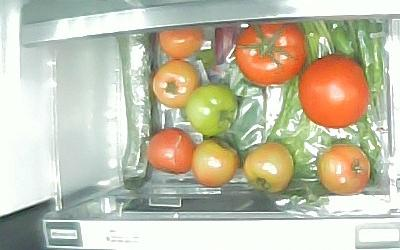tomato: (298, 53, 368, 128), (233, 24, 308, 87), (184, 84, 241, 140), (317, 142, 370, 195), (242, 143, 296, 193), (151, 58, 201, 108), (190, 139, 240, 186), (146, 128, 194, 175), (159, 29, 205, 58)
